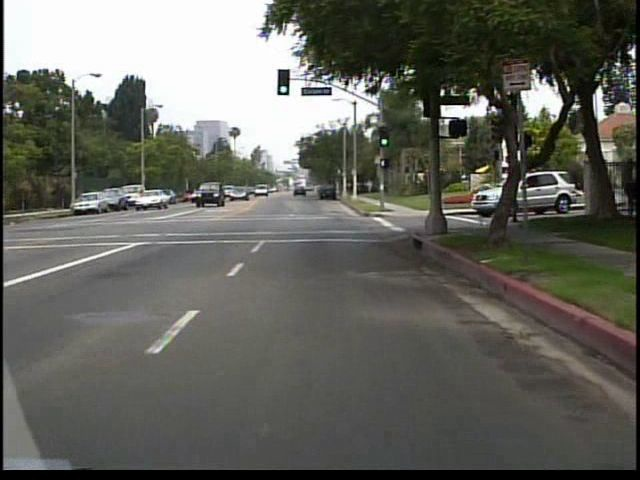person: (356, 176, 365, 200), (366, 176, 375, 196)
